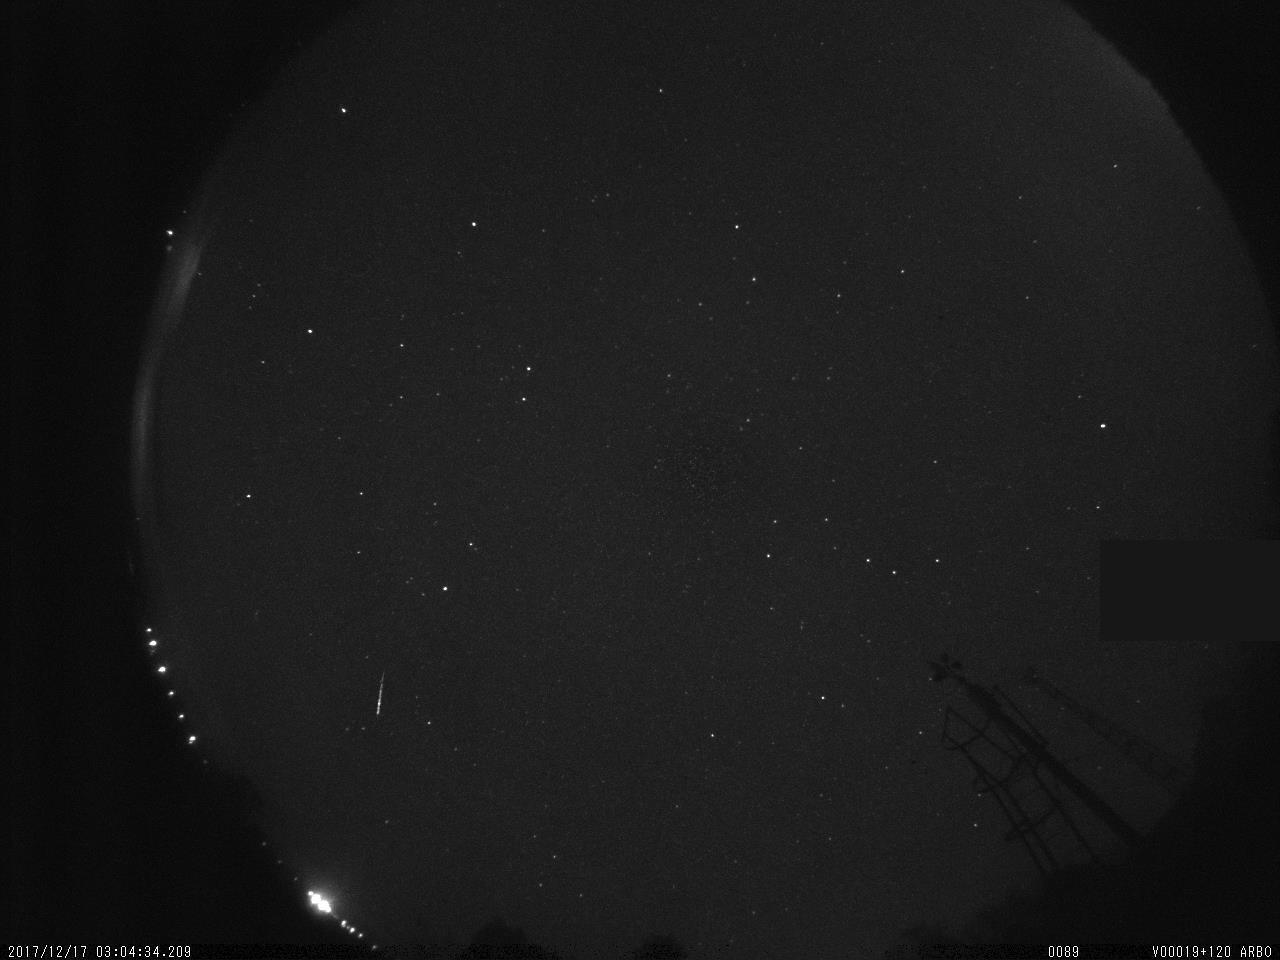Meteor: (368, 666, 389, 722)
